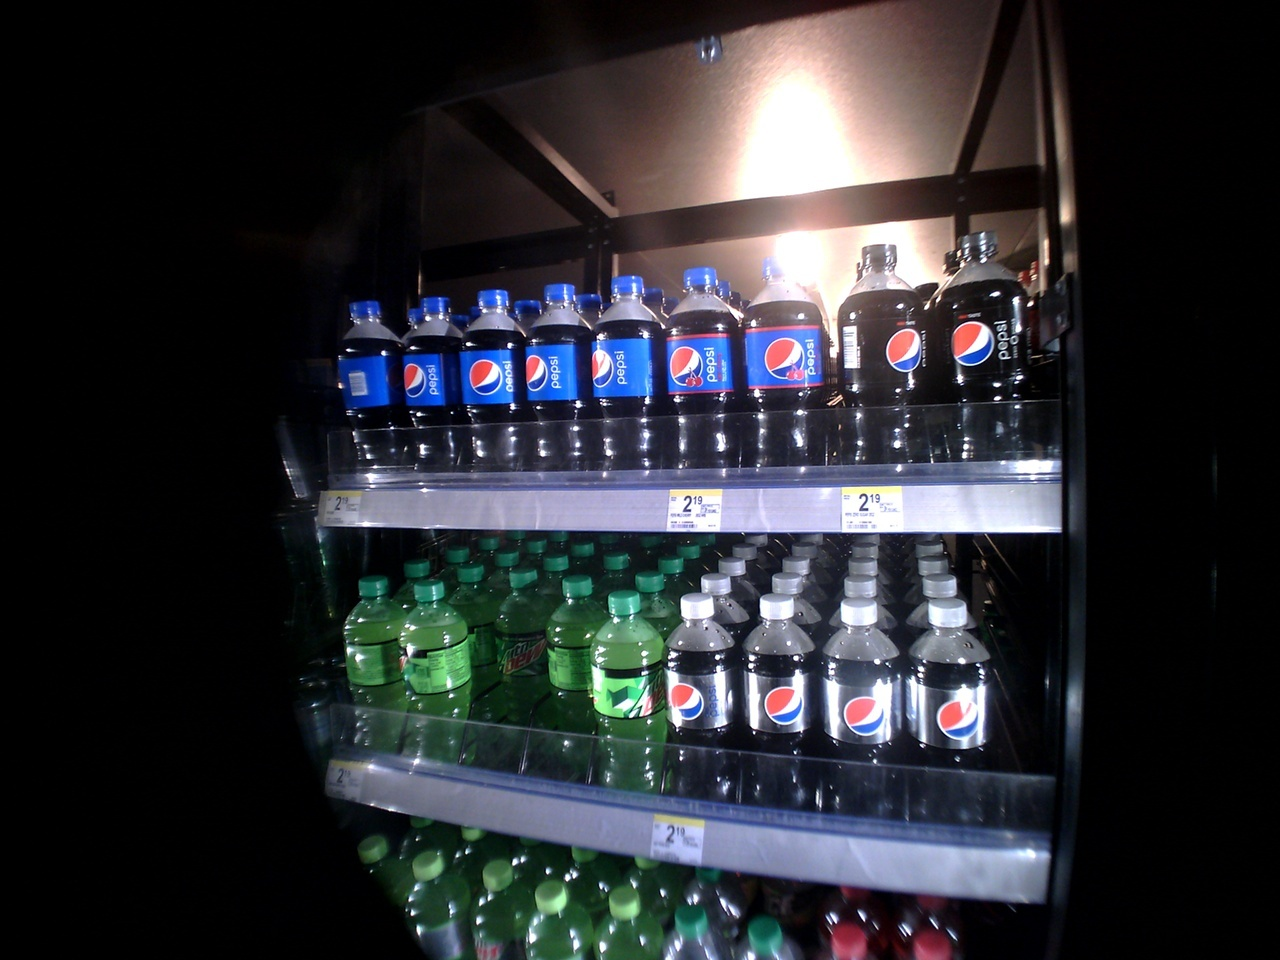shelf: (270, 543, 1071, 855), (329, 238, 1058, 536)
